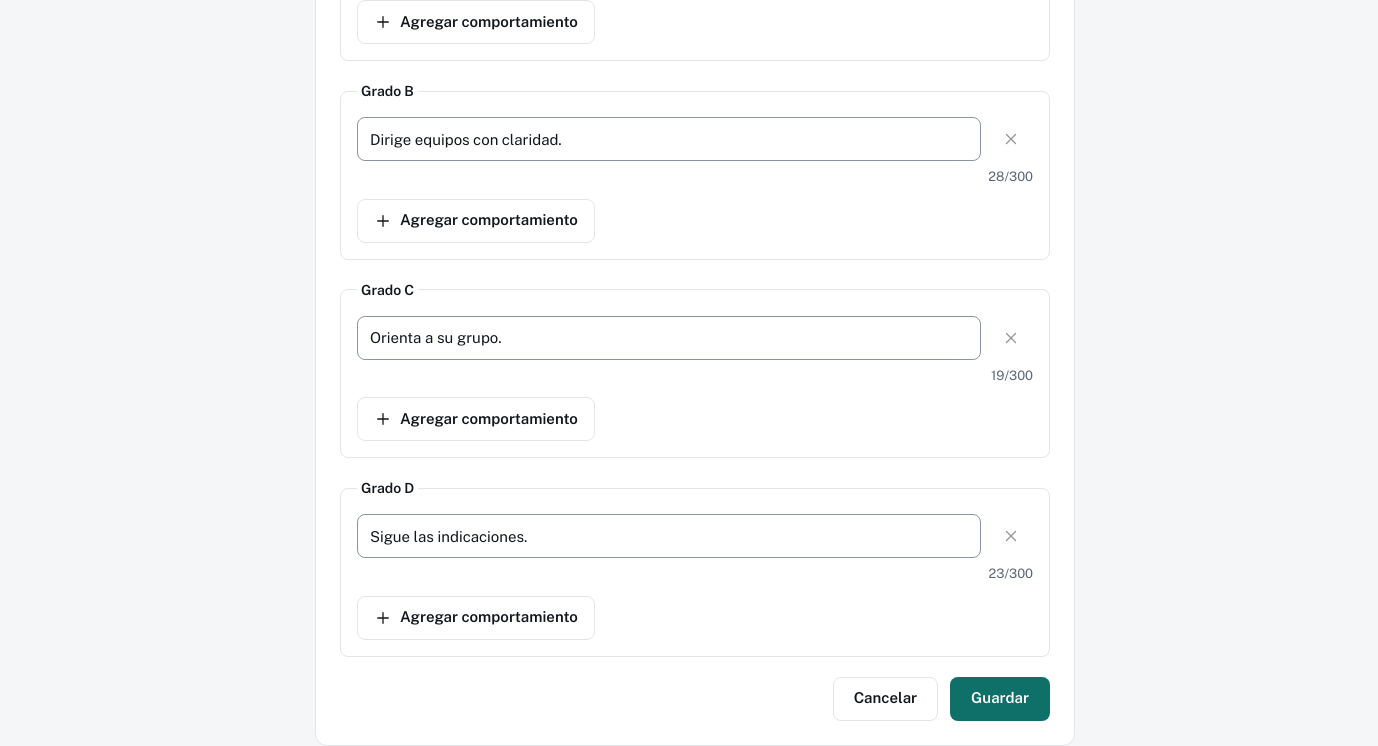
Test: ComportamientosFormPage (editar) › con 409 muestra la alerta de conflicto y Recargar lee la versión actual
(page scrolled)
Click the button "Guardar": point(1000, 699) [950, 677, 1050, 721]
(page scrolled)
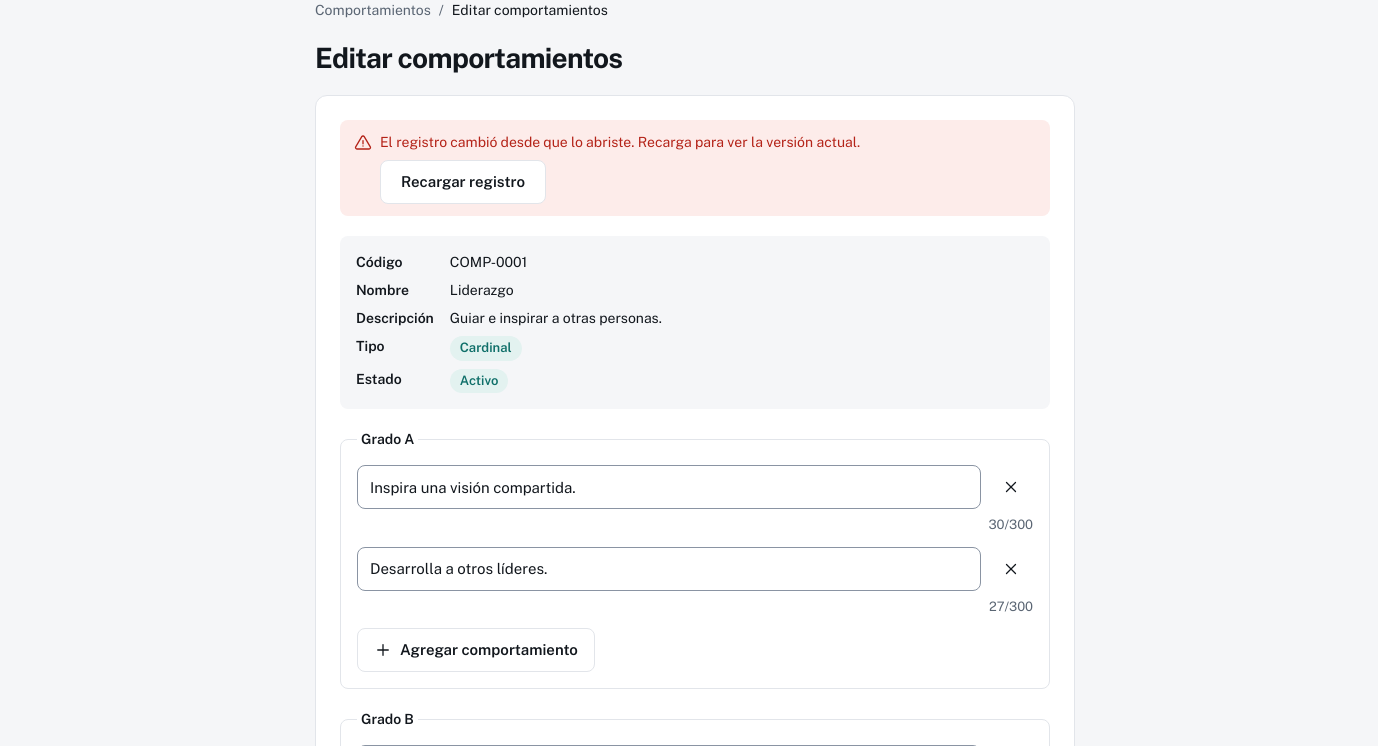
Check: the text "El registro cambió desde que lo abriste. Recarga para ver la versión actual." is shown, box [380, 132, 860, 152]
Click the button "Recargar registro": point(463, 182) [380, 160, 546, 204]
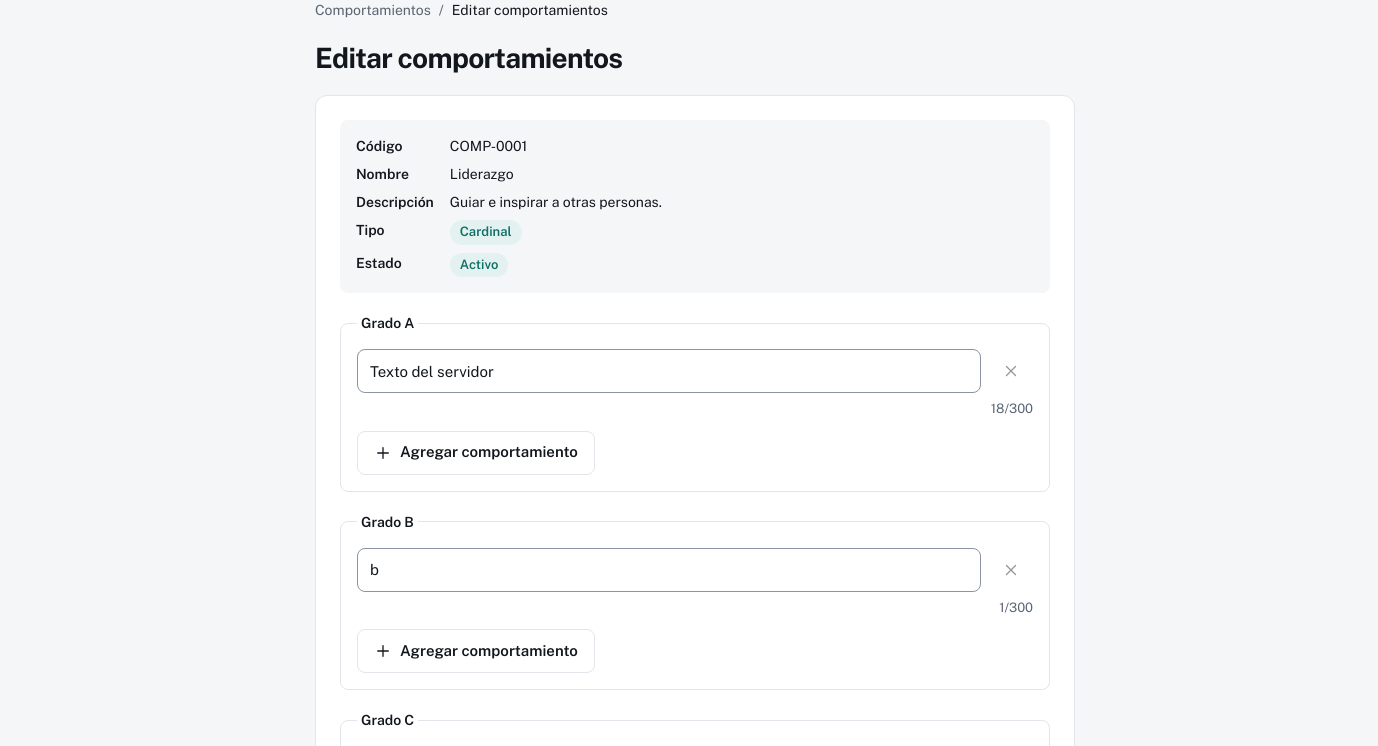
Check: the field showing "Texto del servidor" below "Grado A" is shown, box [357, 349, 981, 393]
Check: the text "cambió desde que lo abriste" is gone
